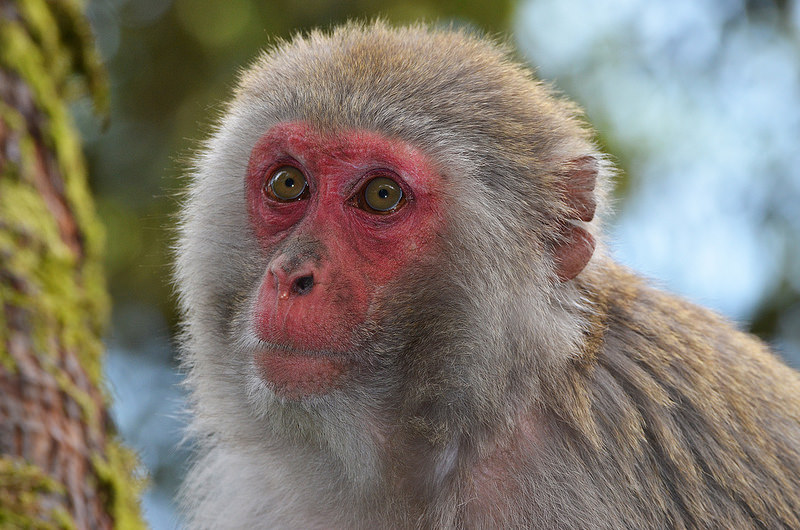monkey: (156, 15, 800, 530)
